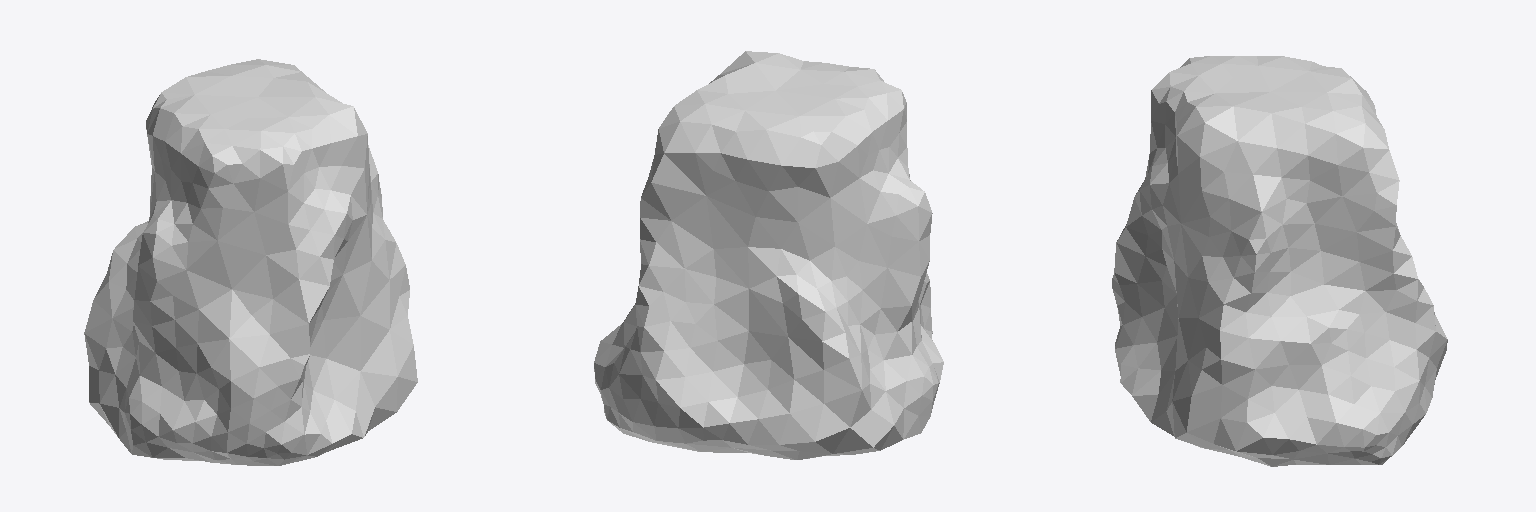
The model's file is RockSet05B.obj.
3 views of the same model, side by side, from view 1: azimuth 30°, elevation 25°; view 2: azimuth 150°, elevation 25°; view 3: azimuth 270°, elevation 25° (orthographic).
Visible parts, largest first — view 1: RockSet05B; view 2: RockSet05B; view 3: RockSet05B.
Part boxes in pixels (bbox=[...]): RockSet05B: bbox=[84, 59, 417, 465]; RockSet05B: bbox=[594, 51, 943, 459]; RockSet05B: bbox=[1112, 56, 1447, 466].
Bounding box in the file's own units: 13.86 × 15.21 × 13.83.